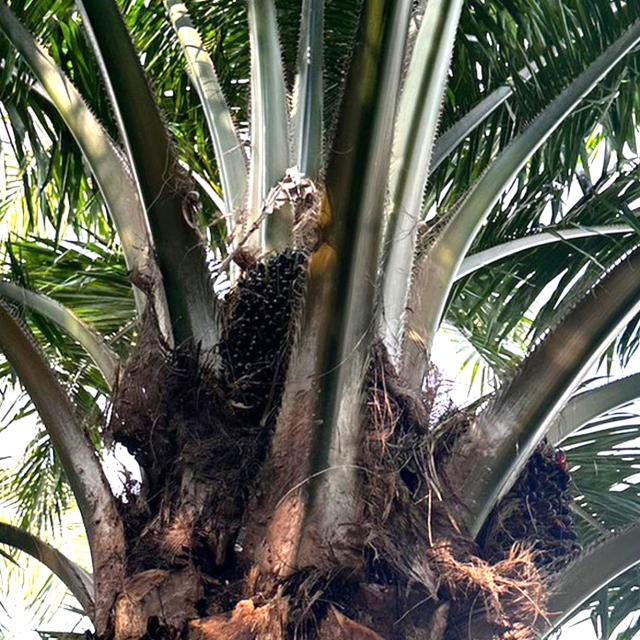ripe: (221, 245, 308, 380)
